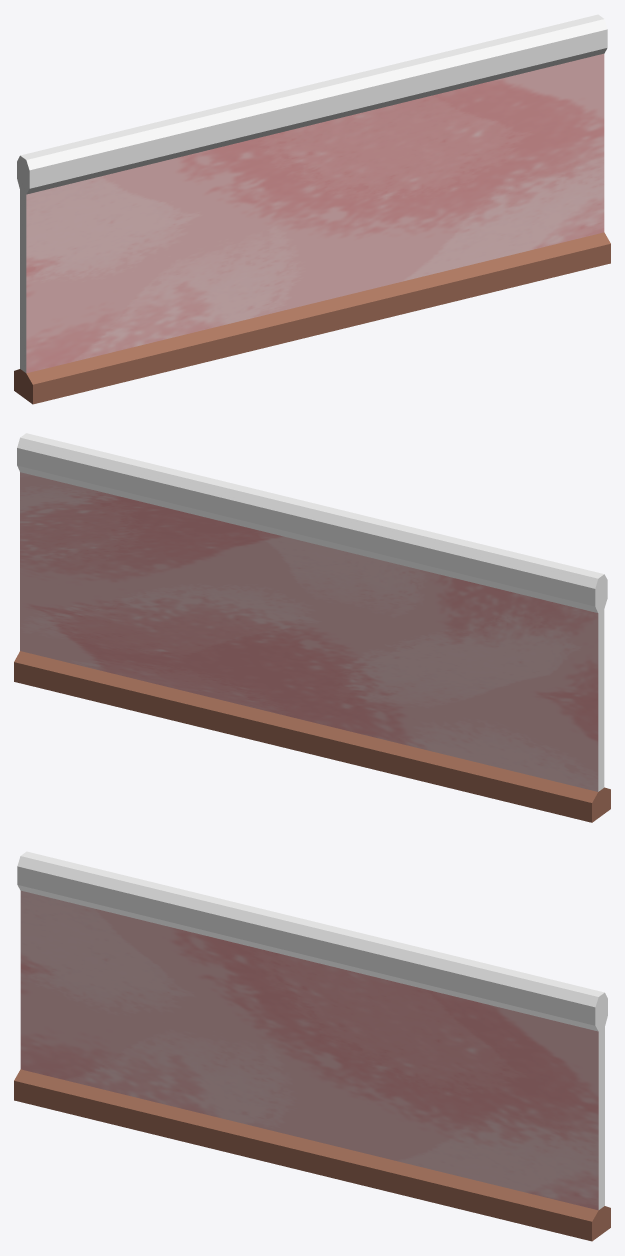
The model's file is indoorWall.obj.
3 views of the same model, one above another, from view 1: azimuth 30°, elevation 25°; view 2: azimuth 150°, elevation 25°; view 3: azimuth 330°, elevation 25° (orthographic).
Parts seen in each view (by area): view 1: pCube2; view 2: pCube2; view 3: pCube2.
Boxes of the visible parts, left/top/right/bottom form: pCube2: left=14, top=14, right=610, bottom=404; pCube2: left=14, top=433, right=610, bottom=822; pCube2: left=14, top=851, right=610, bottom=1241.
Size of the model in its own units: 9.87 by 3.91 by 0.5574.
